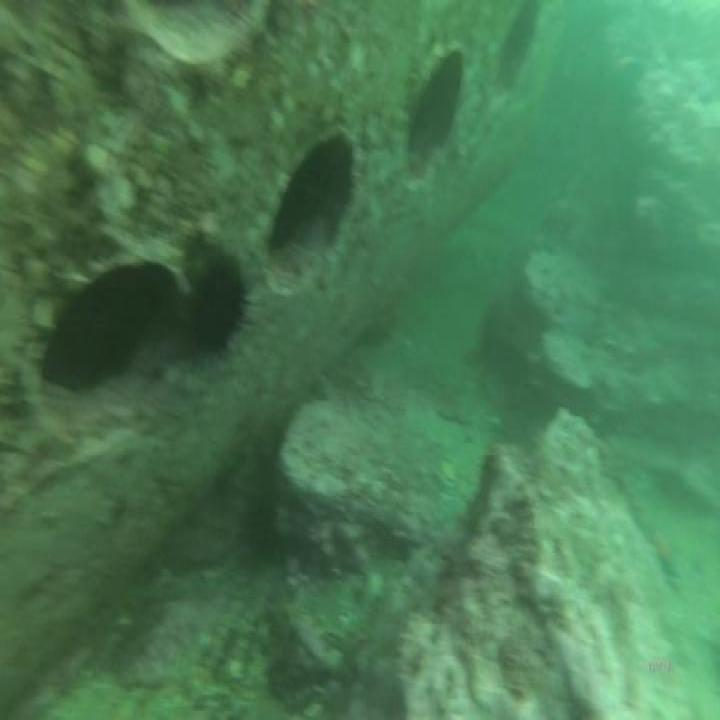echinus: (182, 253, 240, 367)
